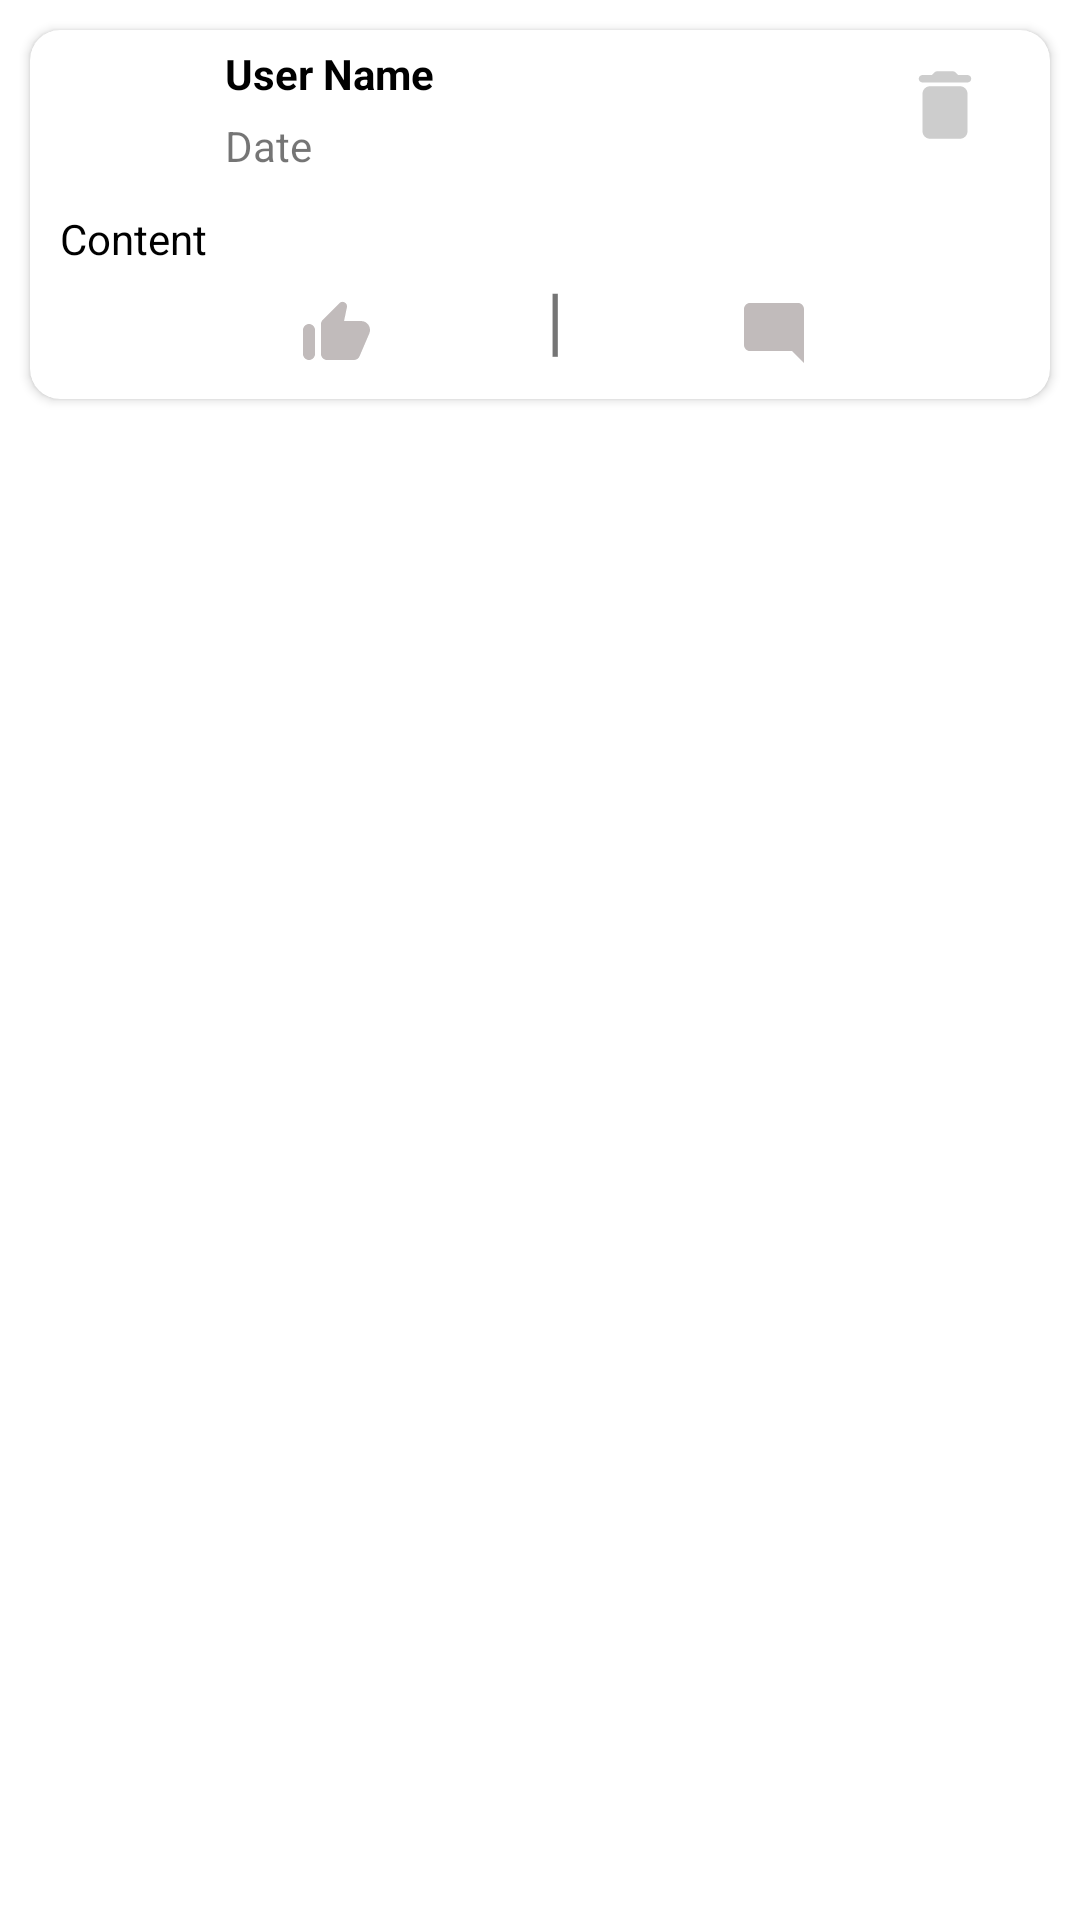

Point at icon controls on the screen. Image size 1080px x 1920px, points as point (x, y).
delete: point (945, 105)
mode comment: point (774, 333)
thumb up: point (336, 331)
